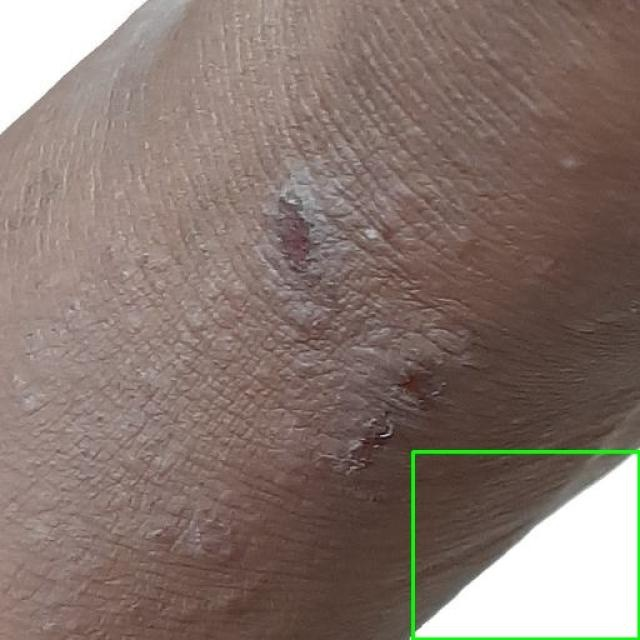Atopic Dermatitis: (412, 451, 639, 639)
